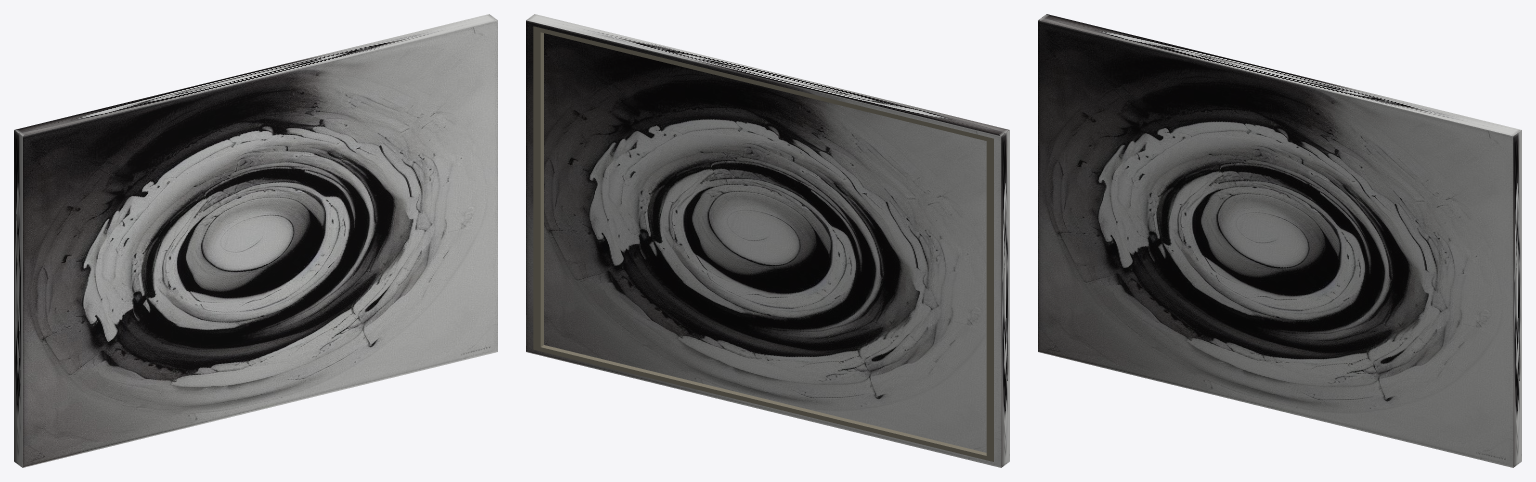
Rendered from Canvas 1.fbx.
3 views of the same model, side by side, from view 1: azimuth 30°, elevation 25°; view 2: azimuth 150°, elevation 25°; view 3: azimuth 330°, elevation 25° (orthographic).
Parts seen in each view (by area): view 1: Canvas_Large_Desk; view 2: Canvas_Large_Desk; view 3: Canvas_Large_Desk.
Boxes of the visible parts, x1=… form: Canvas_Large_Desk: x1=14, y1=14, x2=497, y2=467; Canvas_Large_Desk: x1=526, y1=14, x2=1009, y2=467; Canvas_Large_Desk: x1=1038, y1=14, x2=1521, y2=467.
Bounding box in the file's own units: 138 × 92.21 × 4.36.
Materials: 2 (1 with a texture image).
